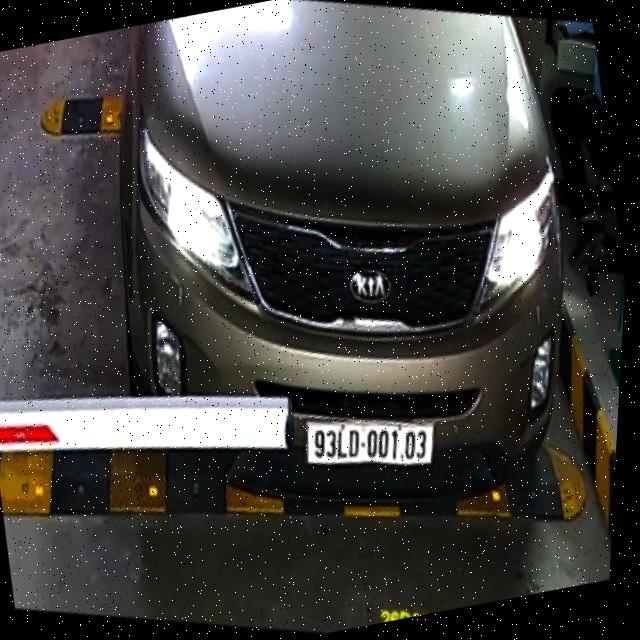car: (56, 0, 623, 571)
plate: (293, 392, 447, 494)
